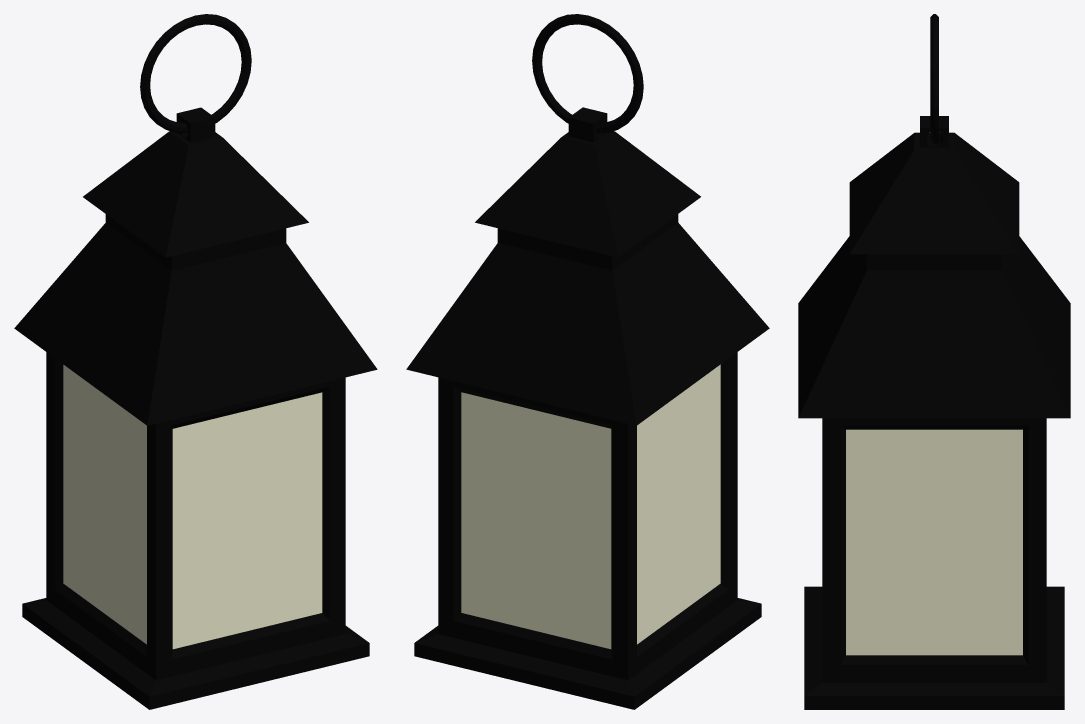
File: Lantern.fbx
The picture shows the model from 3 angles, left to right: view 1: azimuth 30°, elevation 25°; view 2: azimuth 150°, elevation 25°; view 3: azimuth 270°, elevation 25°; orthographic projection. The views are drawn at different scales.
Parts seen in each view (by area): view 1: Cube; view 2: Cube; view 3: Cube.
Boxes of the visible parts, x1,y1,x2,y2 form: Cube: (14, 14, 377, 709); Cube: (406, 14, 769, 709); Cube: (798, 14, 1070, 709).
Bounding box in the file's own units: 84.42 × 217 × 84.42.
